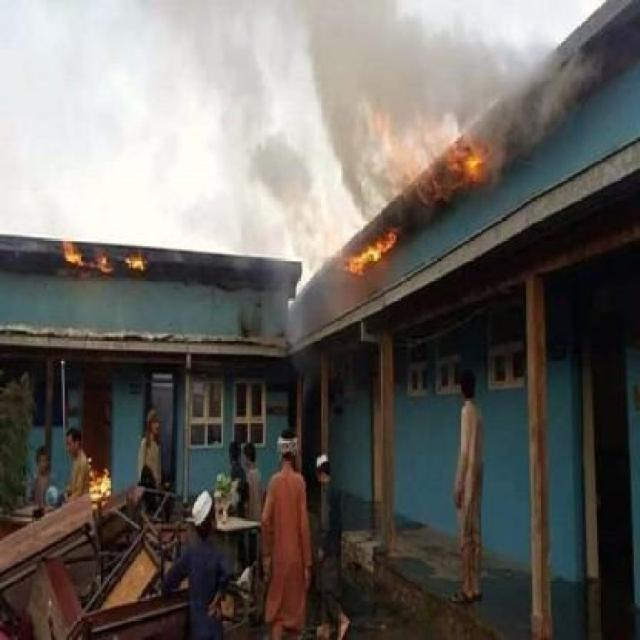Fire: (61, 243, 148, 274), (444, 141, 492, 187), (344, 239, 380, 275), (88, 468, 114, 502), (380, 224, 400, 247)
